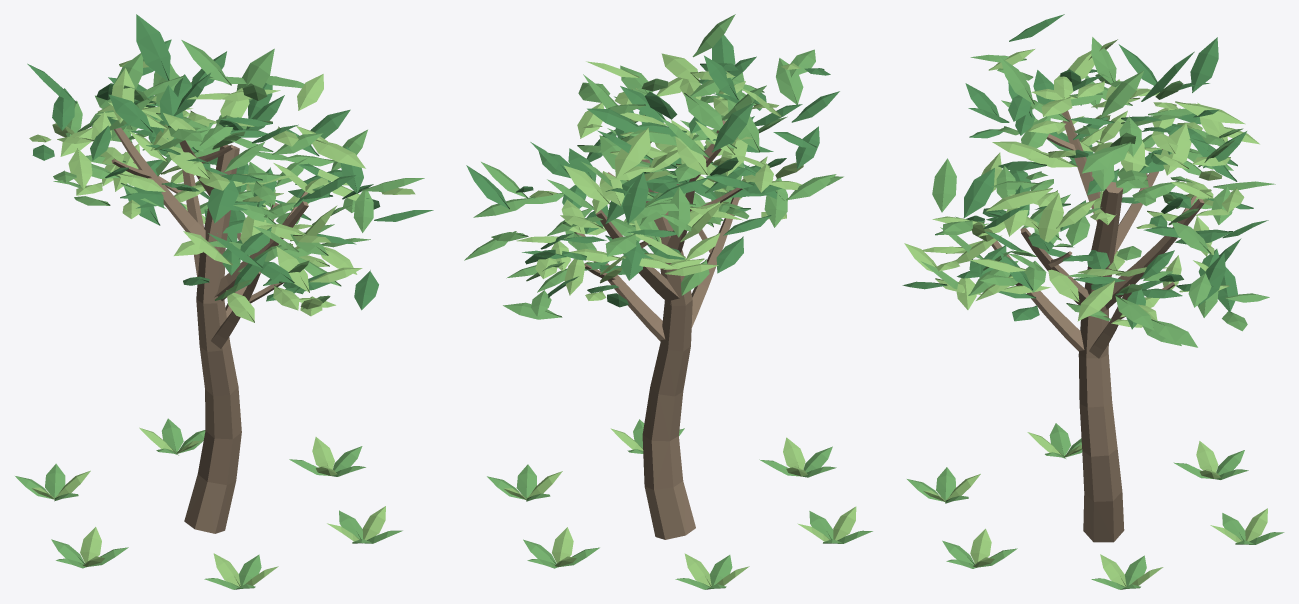
File: SM_PlantTreeLod1.fbx
3 renders of one model, left to right at view 1: azimuth 30°, elevation 25°; view 2: azimuth 150°, elevation 25°; view 3: azimuth 270°, elevation 25°, orthographic. The views are drawn at different scales.
Parts seen in each view (by area): view 1: PlantTreeLod1; view 2: PlantTreeLod1; view 3: PlantTreeLod1.
Part boxes in pixels (<box>): PlantTreeLod1: <box>15,14,433,589</box>; PlantTreeLod1: <box>464,14,872,589</box>; PlantTreeLod1: <box>902,14,1284,589</box>.
Size of the model in its own units: 1.47 by 1.92 by 1.4.
